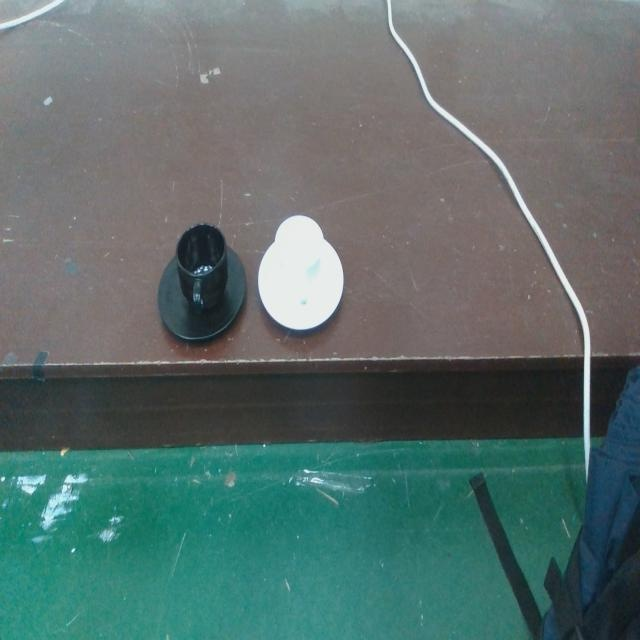black: (156, 219, 250, 347)
white: (255, 210, 346, 337)
